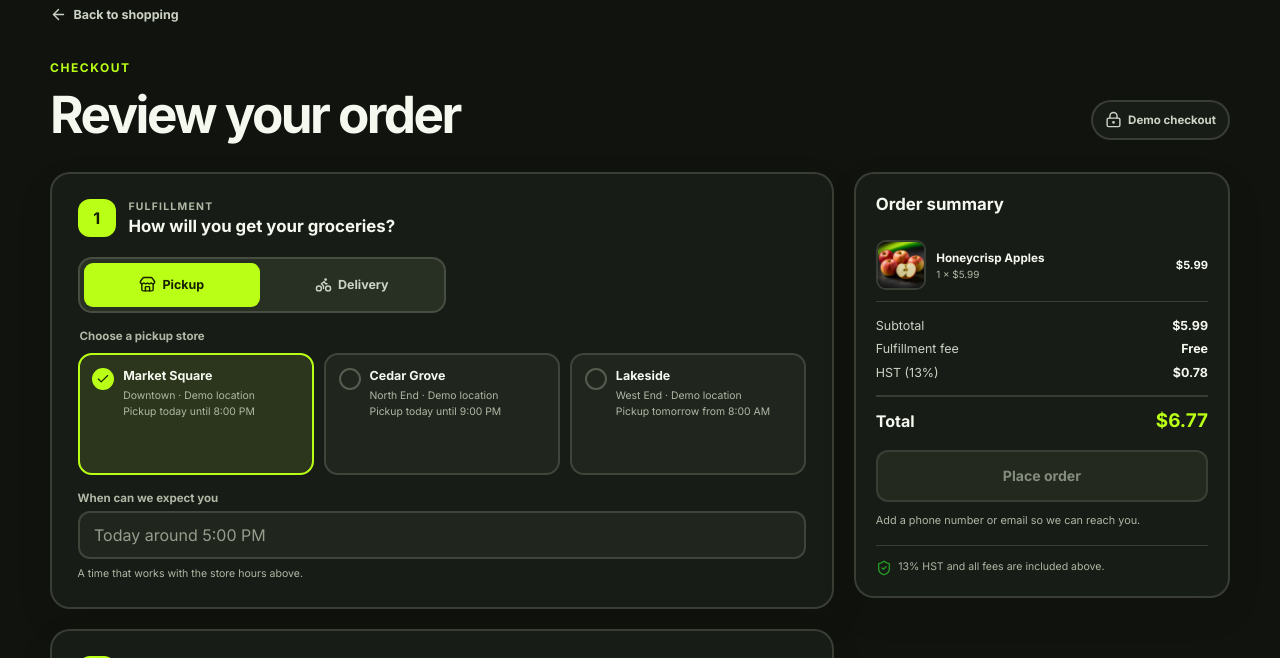
Scenario: CheckoutPage › hides the pickup time field for delivery
Click the button "Delivery" at (352, 285), box [264, 263, 440, 307]
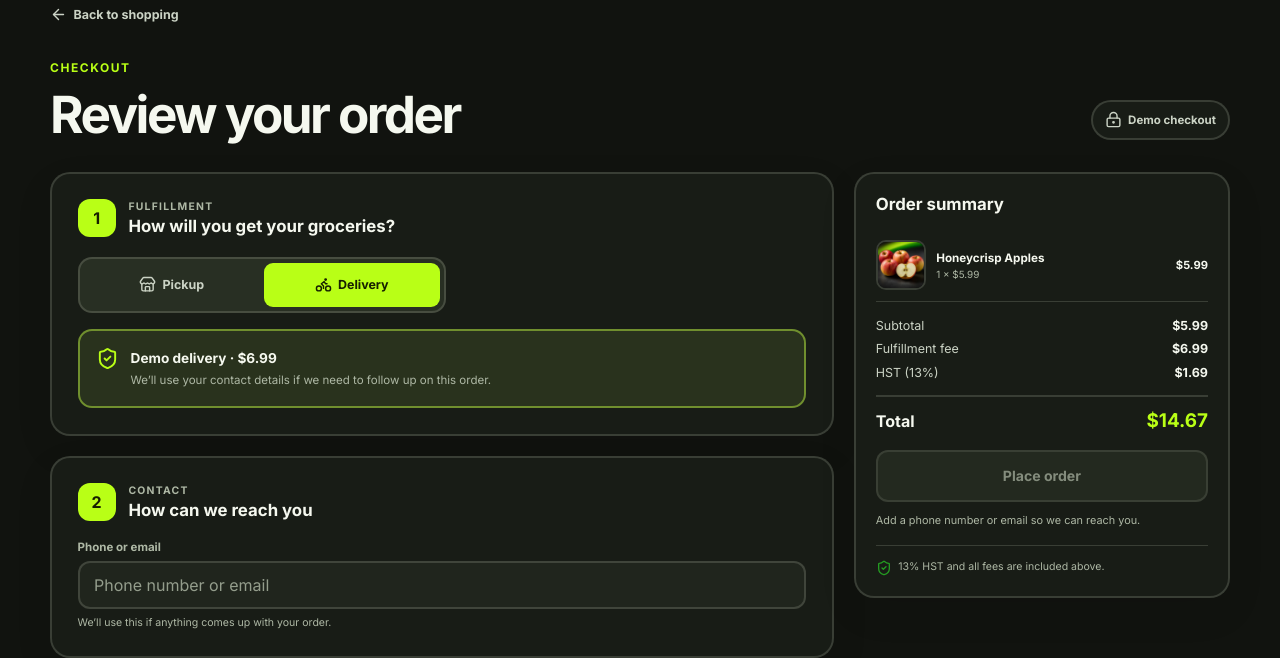
Result: the text labelled "When can we expect you" is gone
Type "demo@market.test" into the field labelled "Phone or email" at (442, 585), box [78, 561, 806, 609]
(page scrolled)
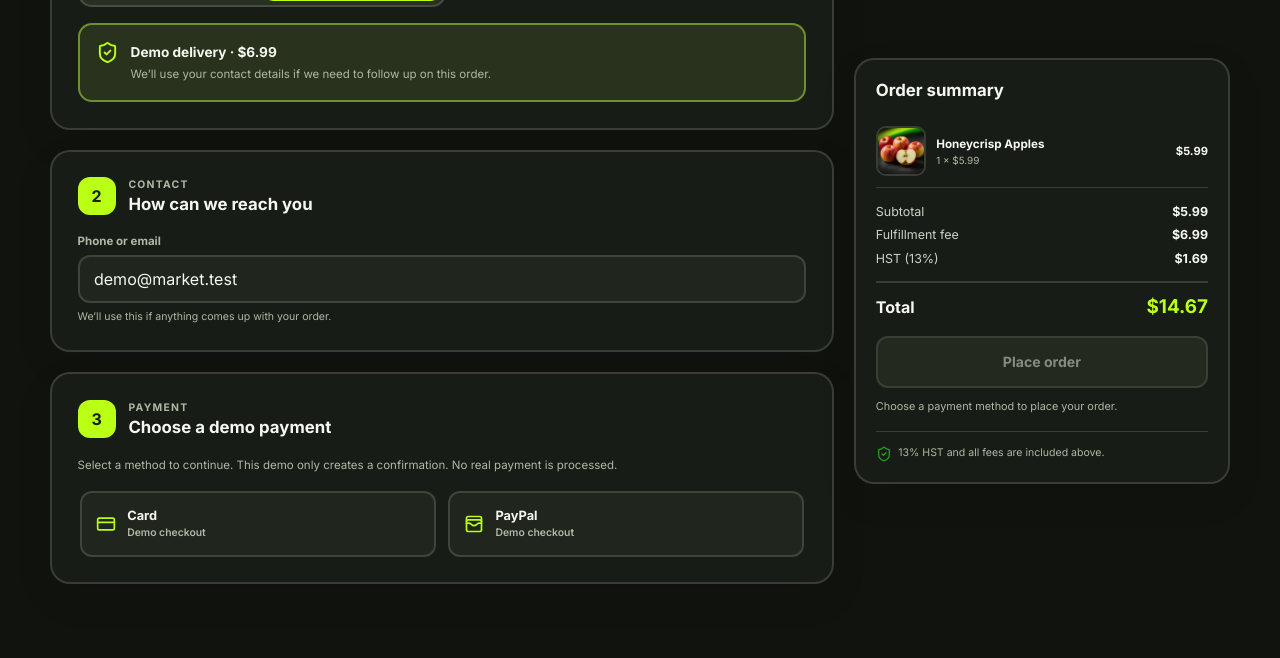
Expected: the button "Place order" is disabled, [876, 336, 1208, 388]
Click the radio button labelled "PayPal Demo checkout" at (517, 516), box [448, 491, 804, 557]
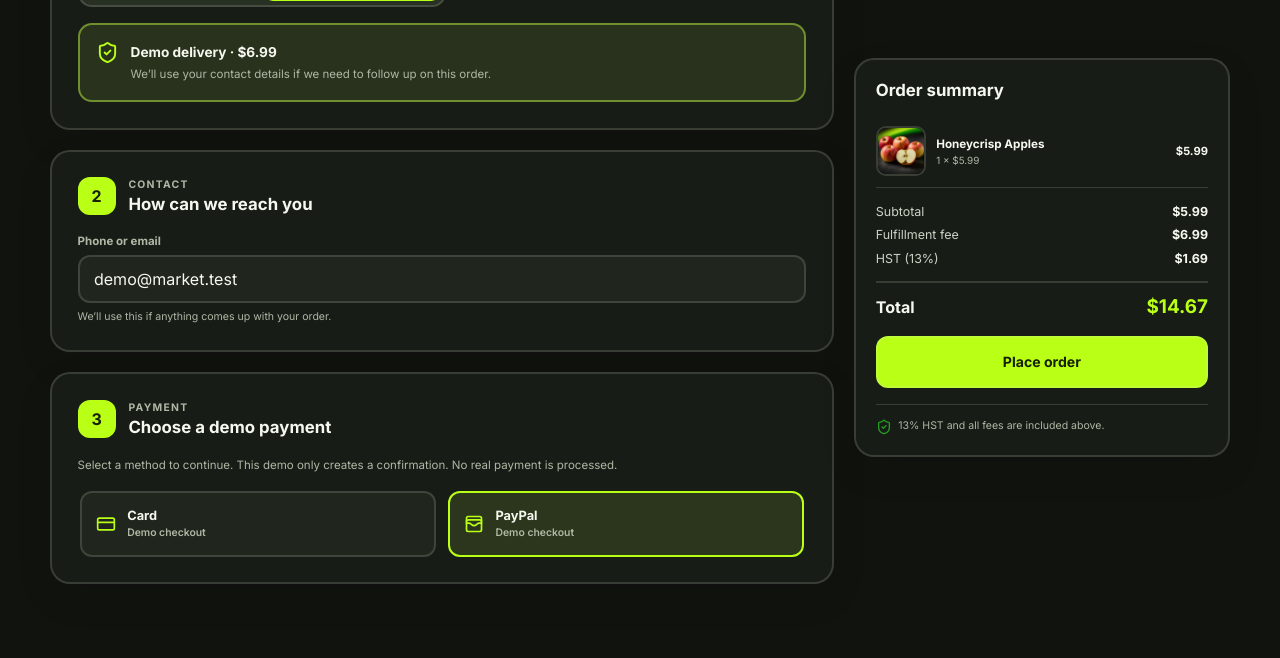
Result: the button "Place order" is enabled at [876, 336, 1208, 388]
